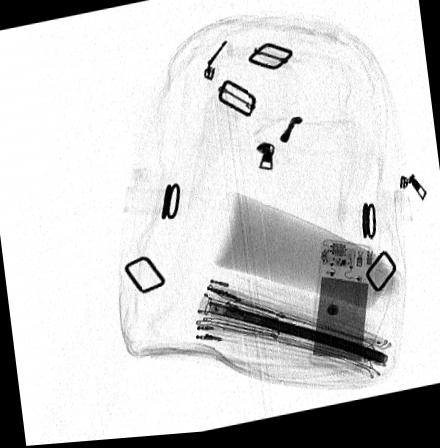Powerbank: (309, 242, 375, 372)
